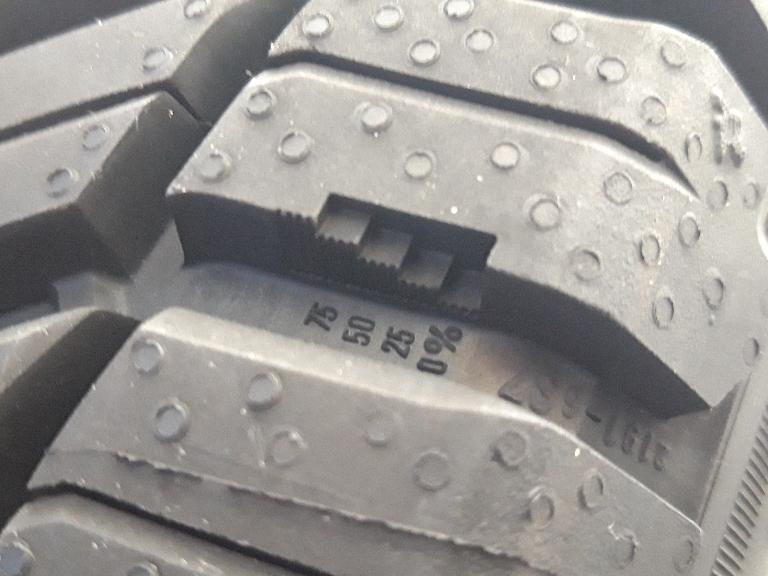temoin:100: (265, 180, 509, 340)
